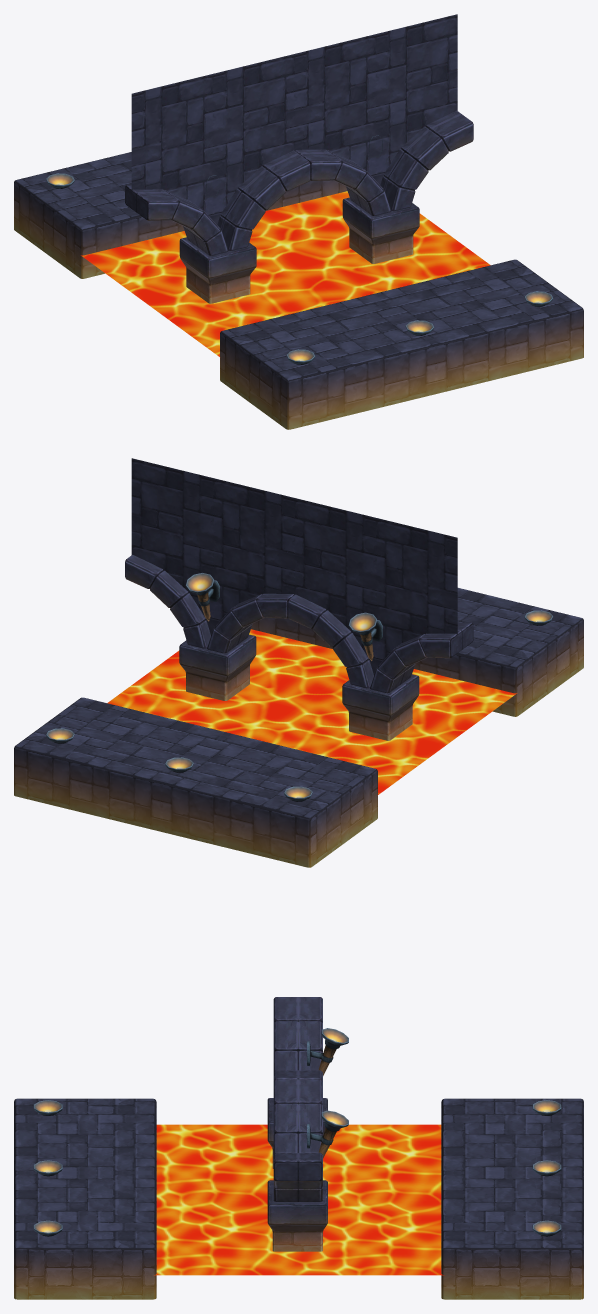
File: torch_scene.fbx
3 renders of one model, top to bottom at view 1: azimuth 30°, elevation 25°; view 2: azimuth 150°, elevation 25°; view 3: azimuth 270°, elevation 25°, orthographic. The views are drawn at different scales.
Parts seen in each view (by area): view 1: ground1, lava, wall, wall1, ground, border_wall8, border_wall6, base_wall1, base_wall, border_wall5, border_wall7, border_wall2 (+2 smaller); view 2: ground, lava, wall, wall1, ground1, base_wall1, base_wall, border_wall, border_wall2, border_wall4, border_wall3, torch (+1 smaller); view 3: lava, ground1, ground, base_wall1, border_wall7, border_wall5, border_wall4, border_wall3, border_wall8, border_wall2, torch3, torch.
Boxes of the visible parts, x1,y1,x2,y2 form: ground1: (220,259,583,429); lava: (81,191,490,356); wall: (131,54,294,224); wall1: (294,14,457,184); ground: (14,152,347,278); border_wall8: (384,114,473,211); border_wall6: (221,154,310,250); base_wall1: (342,197,419,263); base_wall: (179,237,256,303); border_wall5: (136,192,228,255); border_wall7: (299,153,391,215); border_wall2: (380,110,460,189); ground: (14,697,377,867); lava: (107,629,517,794); wall: (294,498,457,675); wall1: (131,458,294,635); ground1: (251,588,583,716); base_wall1: (179,634,256,700); base_wall: (342,674,419,740); border_wall: (288,594,373,688); border_wall2: (125,555,210,648); border_wall4: (370,630,462,693); border_wall3: (207,593,294,653); torch: (348,612,382,660); lava: (154,1124,443,1275); ground1: (14,1098,156,1299); ground: (441,1098,583,1299); base_wall1: (267,1180,327,1251); border_wall7: (273,1079,298,1154); border_wall5: (273,997,298,1072); border_wall4: (298,997,322,1070); border_wall3: (298,1079,322,1152); border_wall8: (273,1152,298,1201); border_wall2: (298,1152,322,1201); torch3: (307,1110,348,1158); torch: (307,1028,348,1075).
Bounding box in the file's own units: 10.96 × 7.6 × 16.
